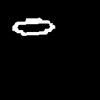chain: (13, 18, 54, 35)
